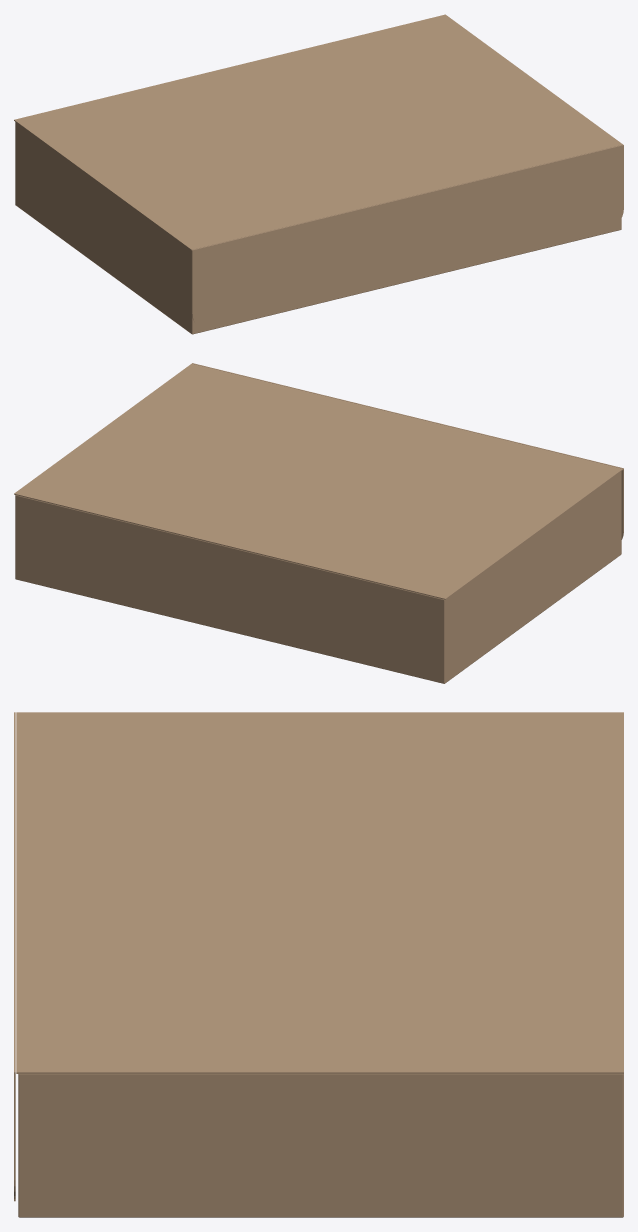
Rendered from flower-box-premium-closed.glb.
3 renders of one model, top to bottom at view 1: azimuth 30°, elevation 25°; view 2: azimuth 150°, elevation 25°; view 3: azimuth 270°, elevation 25°, orthographic. The views are drawn at different scales.
Parts seen in each view (by area): view 1: fgift_lid, fgift_front, fgift_tray; view 2: fgift_lid, fgift_tray, fgift_front; view 3: fgift_lid, fgift_tray, fgift_front, fgift_ear-1.
Boxes of the visible parts, x1,y1,x2,y2 form: fgift_lid: (14, 14, 622, 250); fgift_front: (192, 144, 623, 328); fgift_tray: (15, 122, 621, 334); fgift_lid: (14, 363, 623, 599); fgift_tray: (15, 471, 621, 683); fgift_front: (192, 363, 623, 539); fgift_lid: (16, 712, 623, 1073); fgift_tray: (18, 1074, 623, 1217); fgift_front: (14, 712, 15, 1201); fgift_ear-1: (58, 715, 591, 716).
Bounding box in the file's own units: 0.2109 × 0.04 × 0.1511.
